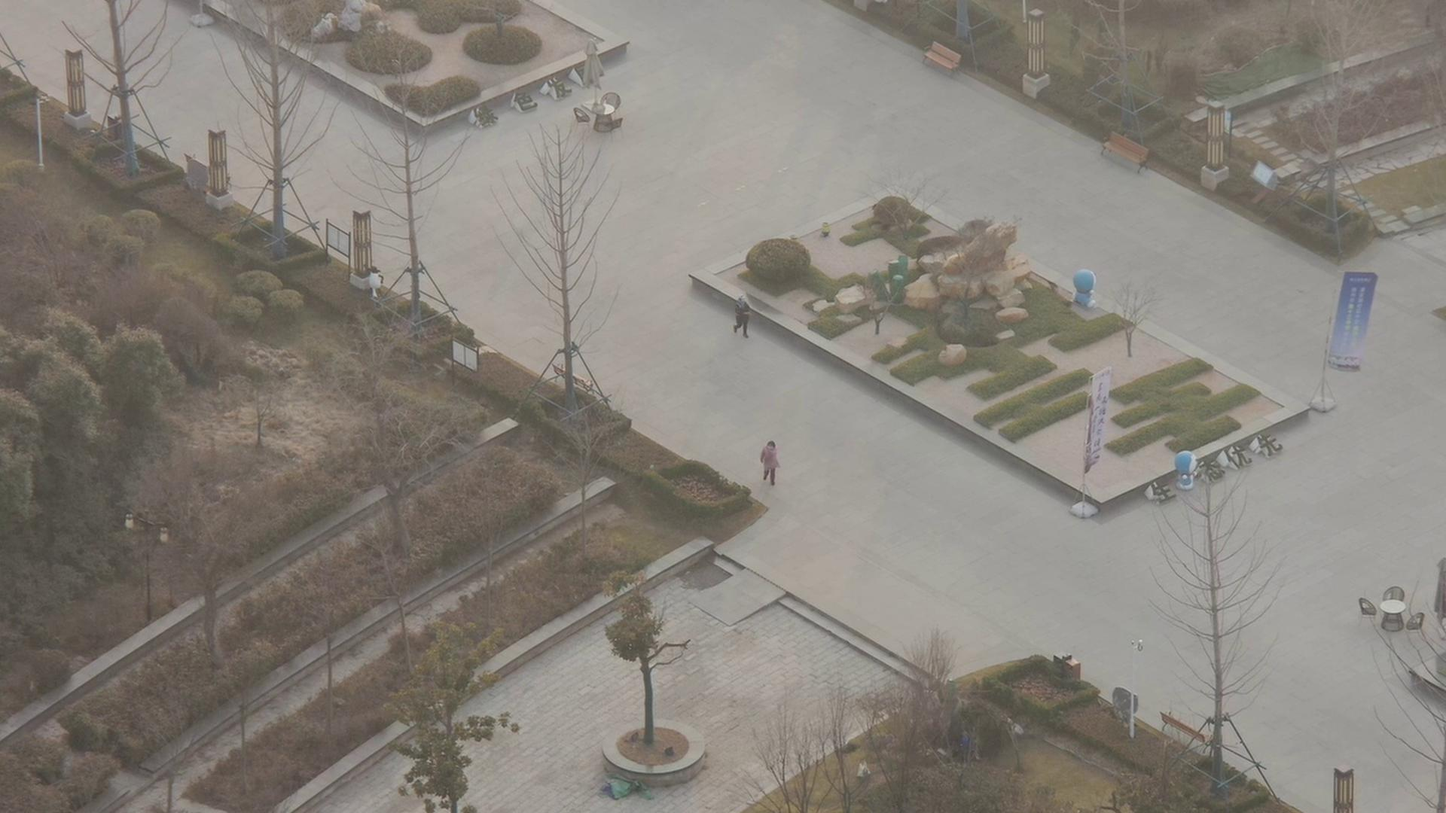human: (726, 282, 761, 351), (755, 426, 789, 486)
